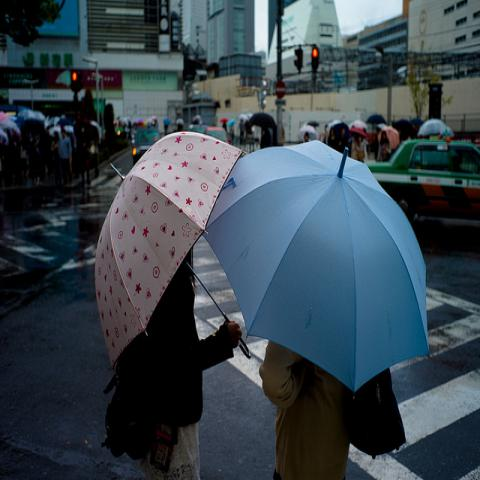car: (367, 138, 479, 246), (132, 124, 230, 164)
